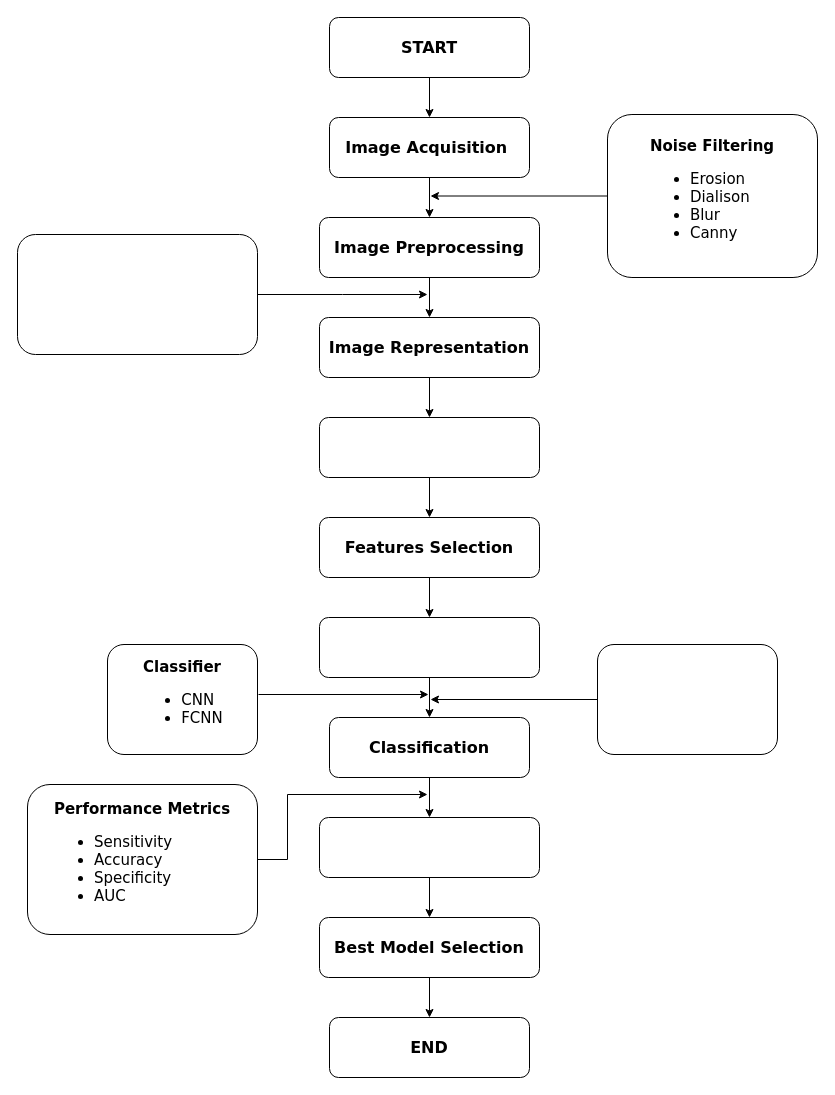
This 835x1095 diagram has some shape labels left out. Each missing label, with the box of its shape:
Classes Jaundice Non Jaundice: (596, 644, 778, 754)
Color Based Balancing White Balancing Brightness: (16, 234, 258, 354)
Features Extraction: (318, 416, 540, 478)
Features Vector Formation: (318, 616, 540, 678)
Performance Analysis: (318, 816, 540, 878)
